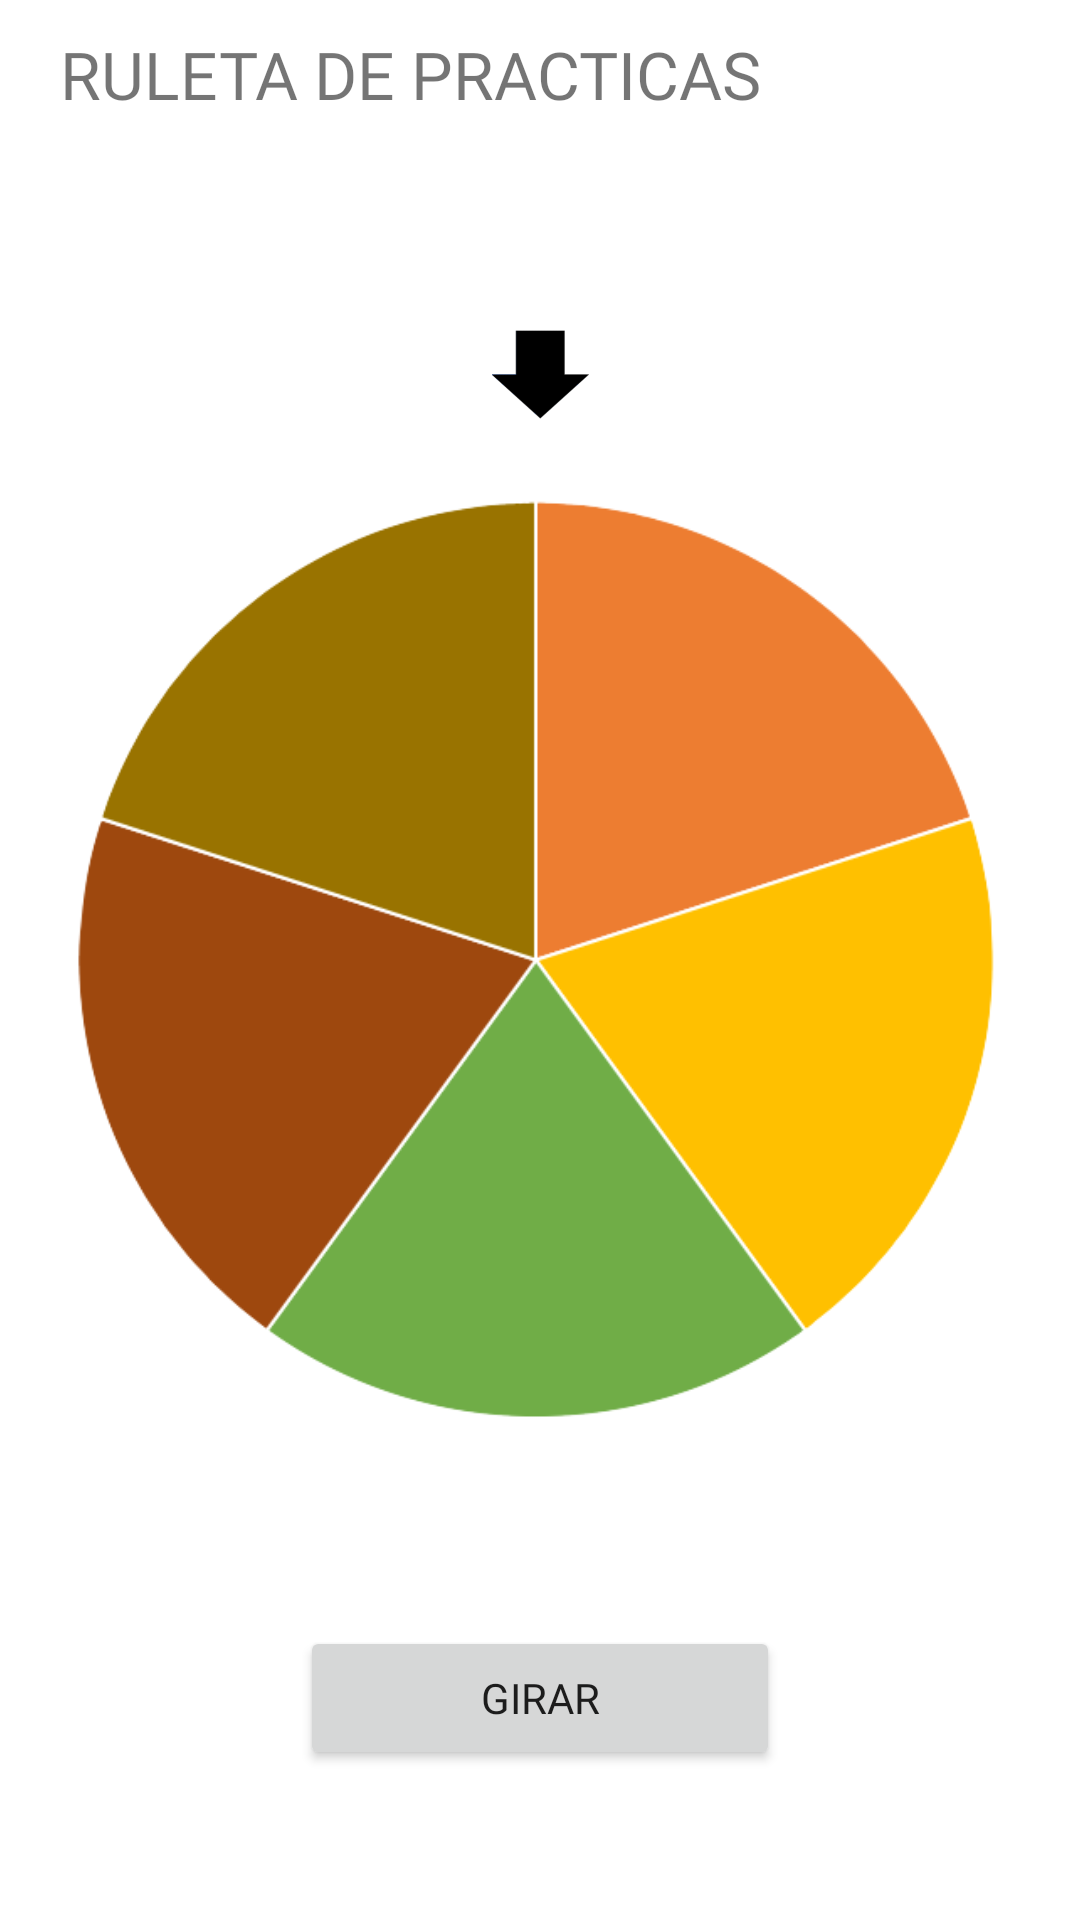

Icons on this 1080 x 1920 Android screen, each with its box as (x1=x1, y1=y1, x2=x2, y2=y2):
indicador: (x1=492, y1=330, x2=589, y2=419)
